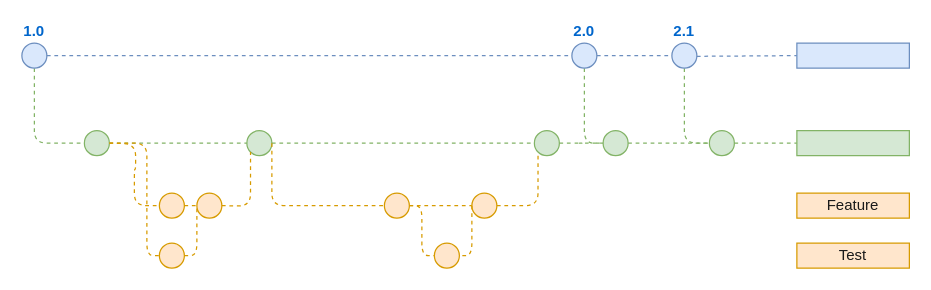
The diagram is 931 pixels wide and 290 high, and some of its shapes have lost their labels. The box of each missing label's shape, as (x1, y1, x2, y2) in pixels:
Dev: (796, 129, 909, 156)
Master: (796, 42, 909, 68)
